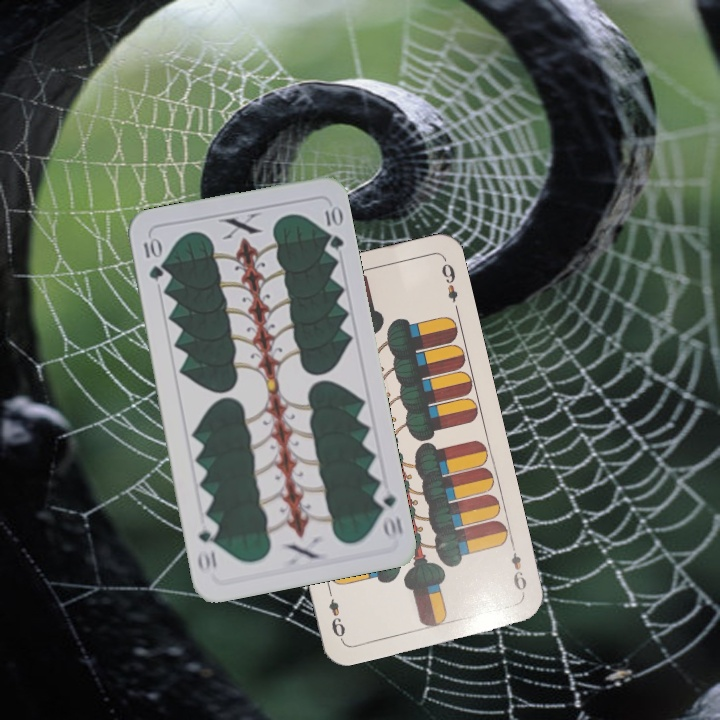E9: (507, 539, 530, 598)
G10: (370, 482, 405, 542), (139, 234, 166, 283)
